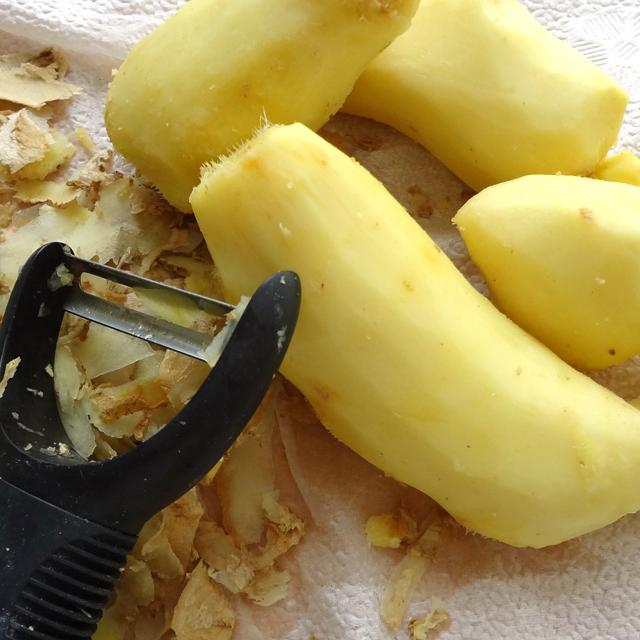ginger: (190, 118, 640, 545), (103, 0, 411, 200), (344, 0, 633, 182)
